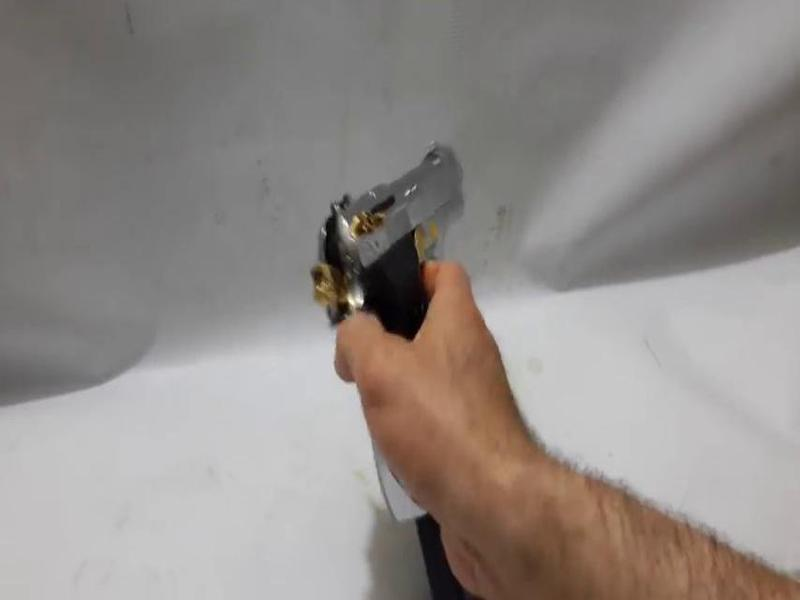Pistola: (298, 130, 504, 526)
